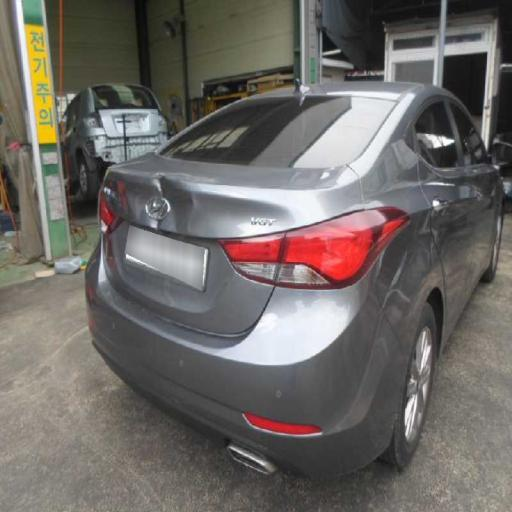dent: (121, 137, 249, 279)
